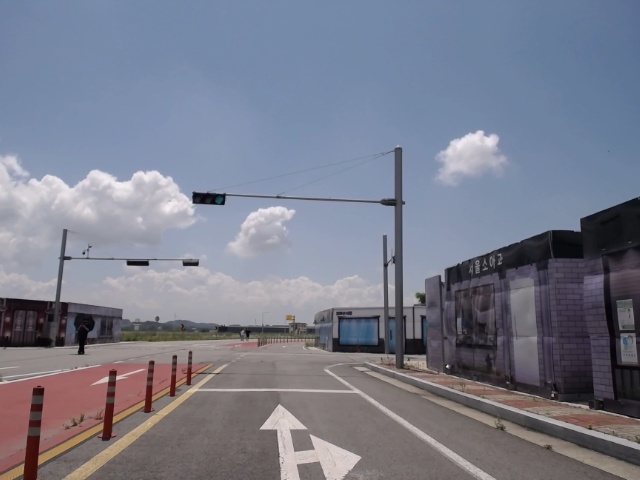green_3: (194, 194, 225, 205)
